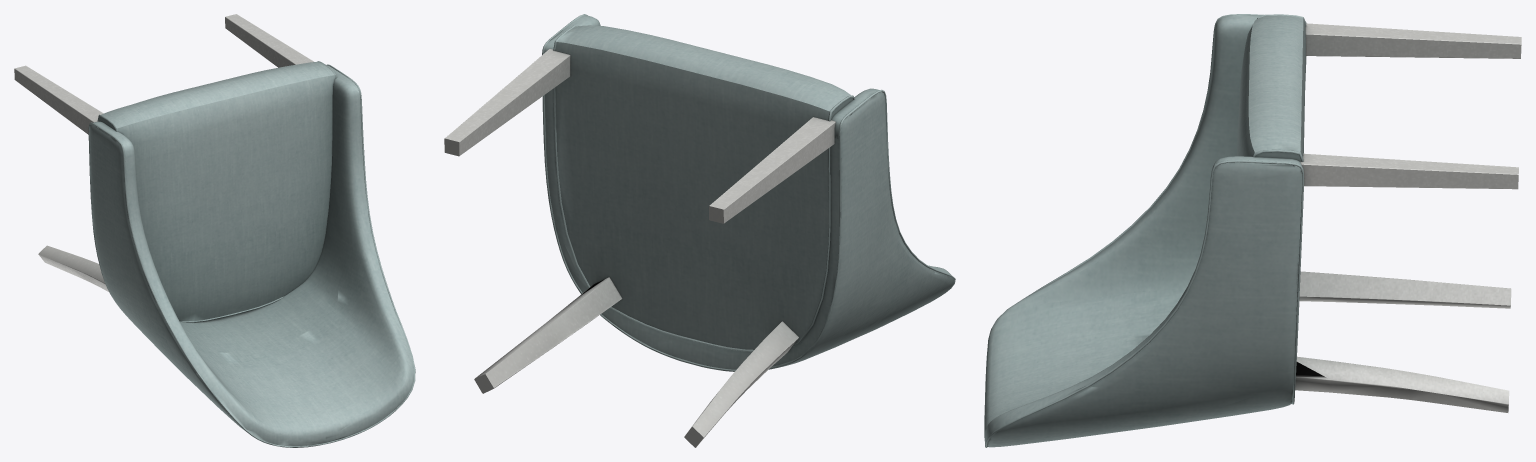
3 renders of one model, left to right at view 1: azimuth 30°, elevation 25°; view 2: azimuth 150°, elevation 25°; view 3: azimuth 270°, elevation 25°, orthographic. The views are drawn at different scales.
Bounding box in the file's own units: 0.6 × 0.6571 × 0.9033.
